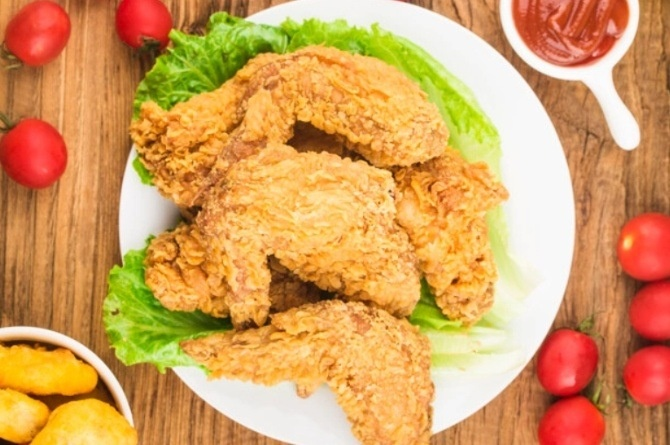ayam_goreng: (196, 144, 422, 329), (183, 301, 443, 445)
